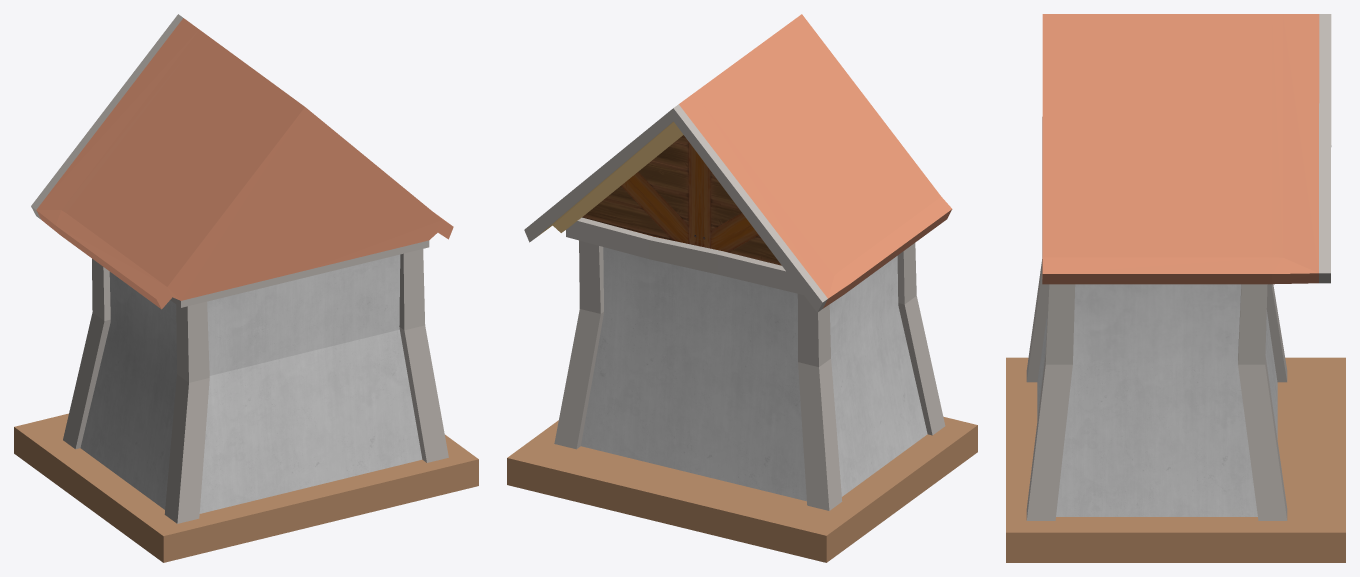
Rendered from BuildingWindow_D_01.fbx.
The picture shows the model from 3 angles, left to right: view 1: azimuth 30°, elevation 25°; view 2: azimuth 150°, elevation 25°; view 3: azimuth 270°, elevation 25°; orthographic projection. The views are drawn at different scales.
Visible parts, largest first — view 1: BuildingWindow_D_01; view 2: BuildingWindow_D_01; view 3: BuildingWindow_D_01.
Part boxes in pixels (x1,y1,x2,y2): BuildingWindow_D_01: (14, 14, 478, 562); BuildingWindow_D_01: (507, 14, 977, 562); BuildingWindow_D_01: (1006, 14, 1345, 562).
Bounding box in the file's own units: 452 × 556 × 371.
